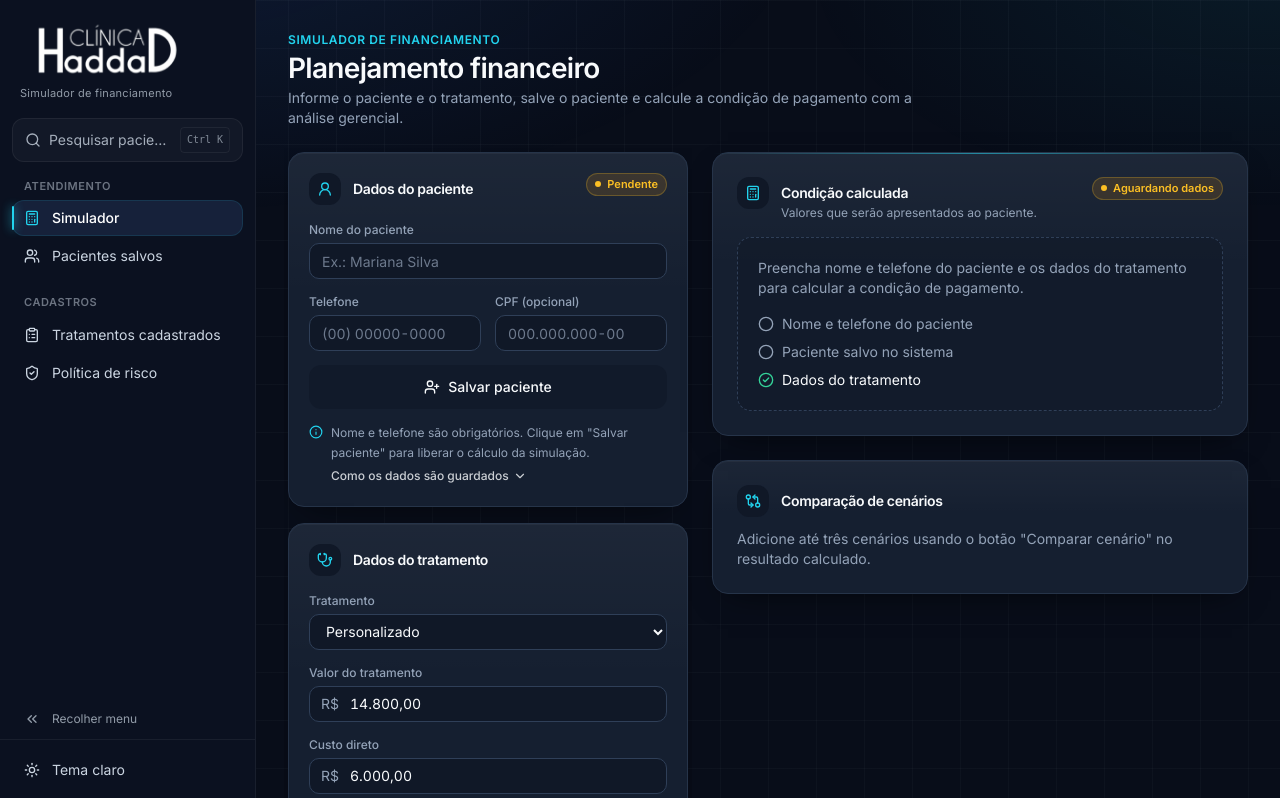
Test: layout — menu lateral, tema e navegação › abre o cadastro de tratamentos e a política de risco pelo menu
Click the button "Tratamentos cadastrados" at [128, 335], box [12,317,243,353]
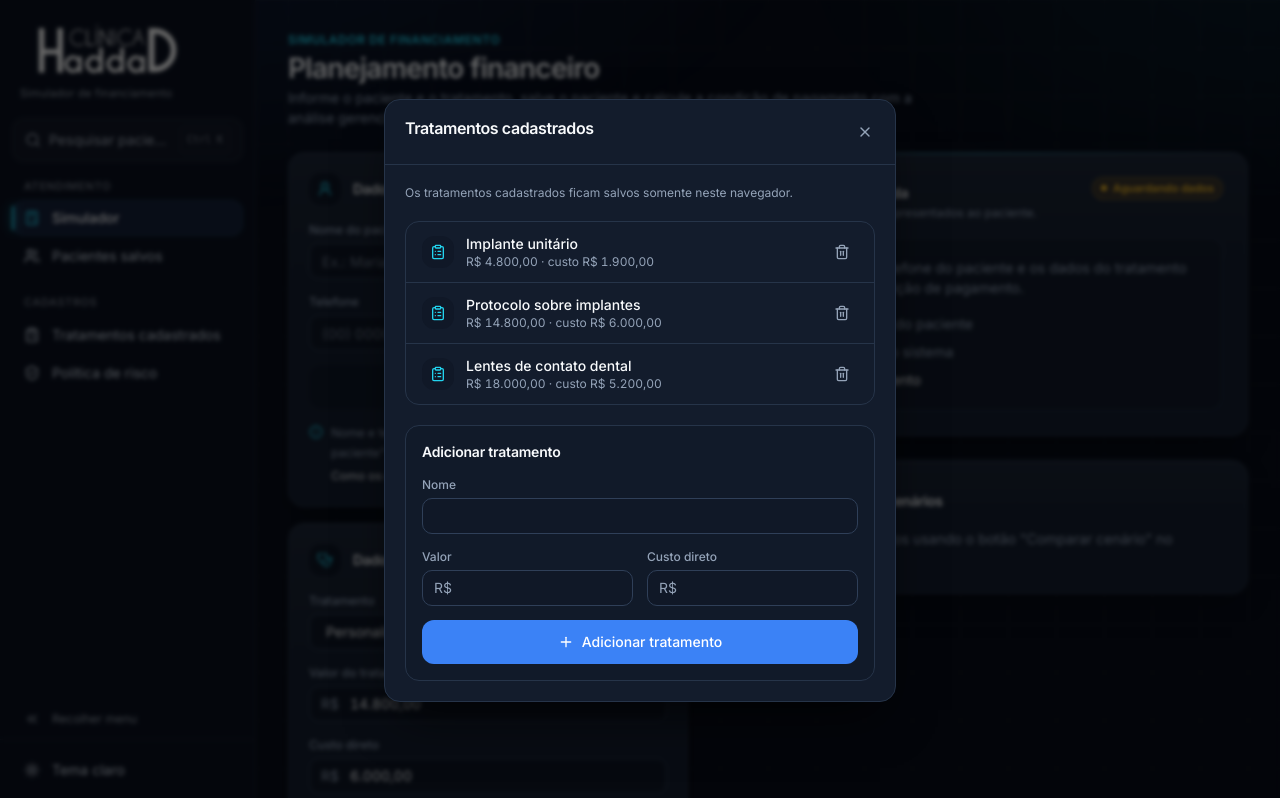
Expected: the heading "Adicionar tratamento" is shown, [422,442,560,460]
Press Escape
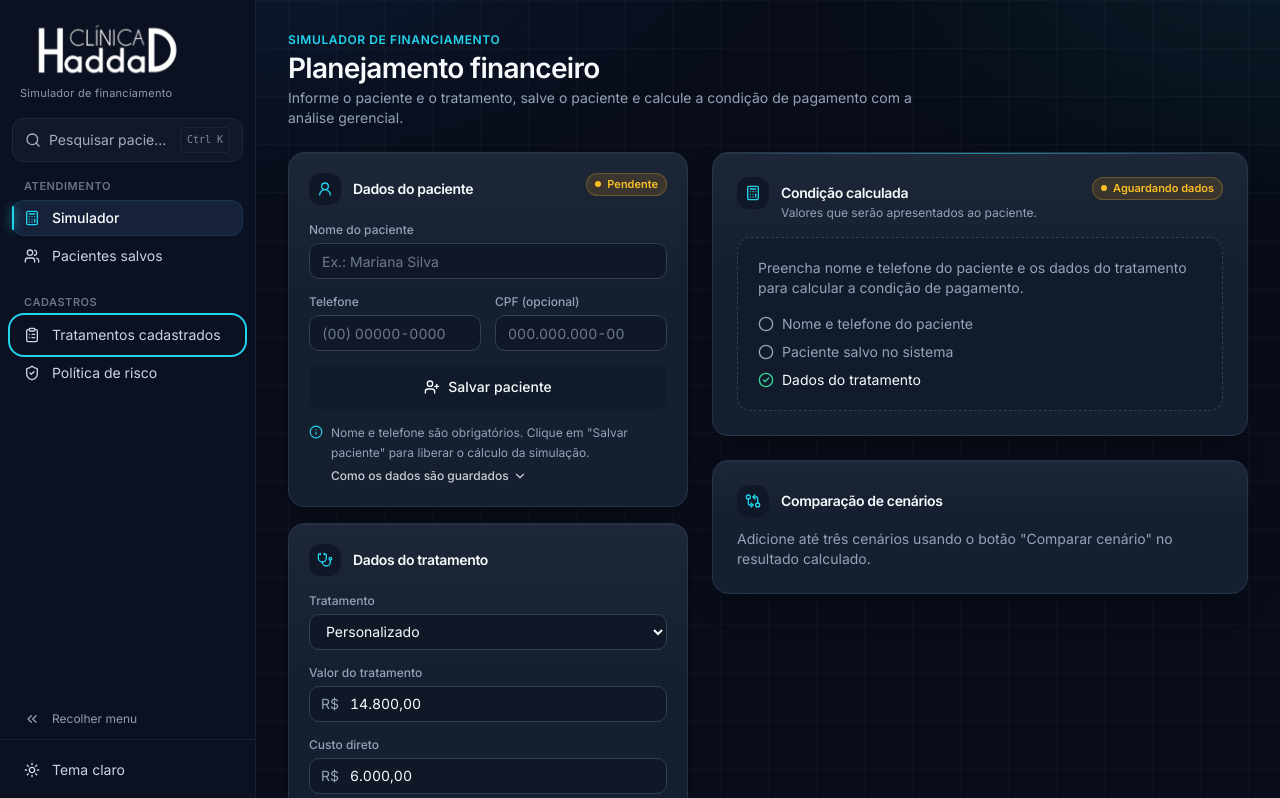
Expected: the dialog is gone
Click the button "Política de risco" at [128, 373], box [12,355,243,391]
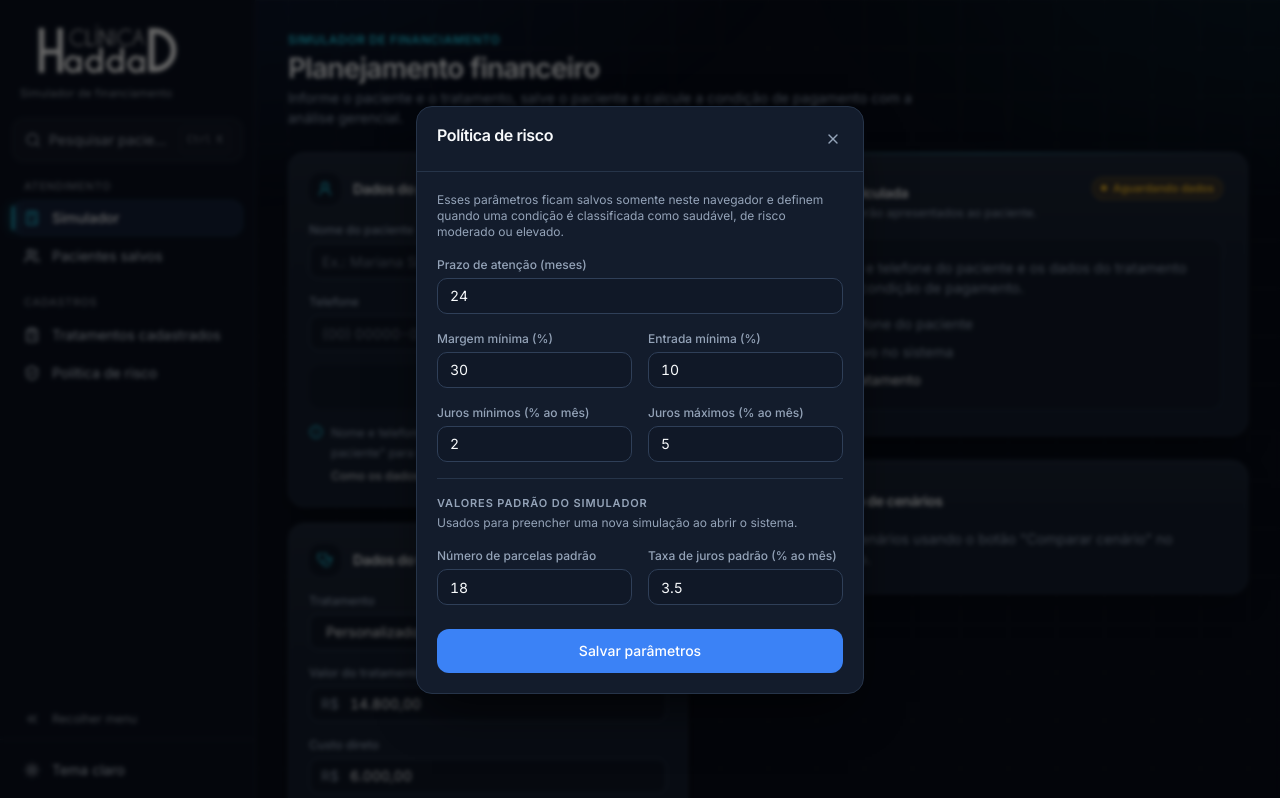
Expected: the dialog "Política de risco" is shown, [416,106,864,694]
